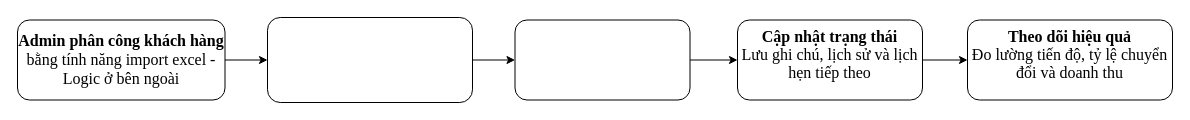
The diagram is 1190 pixels wide and 120 high, and some of its shapes have lost their labels. Here are the shapes that lost their labels. From the top down, the centre of each, then its label:
At [369,59]: "Dược sĩ nhận danh sách ( Xem thông tin, sản phẩm đã mua và thời hạn chăm sóc)".
At [602,59]: "Thực hiện chăm sóc Liên hệ, tư vấn và ghi nhận kết quả".
